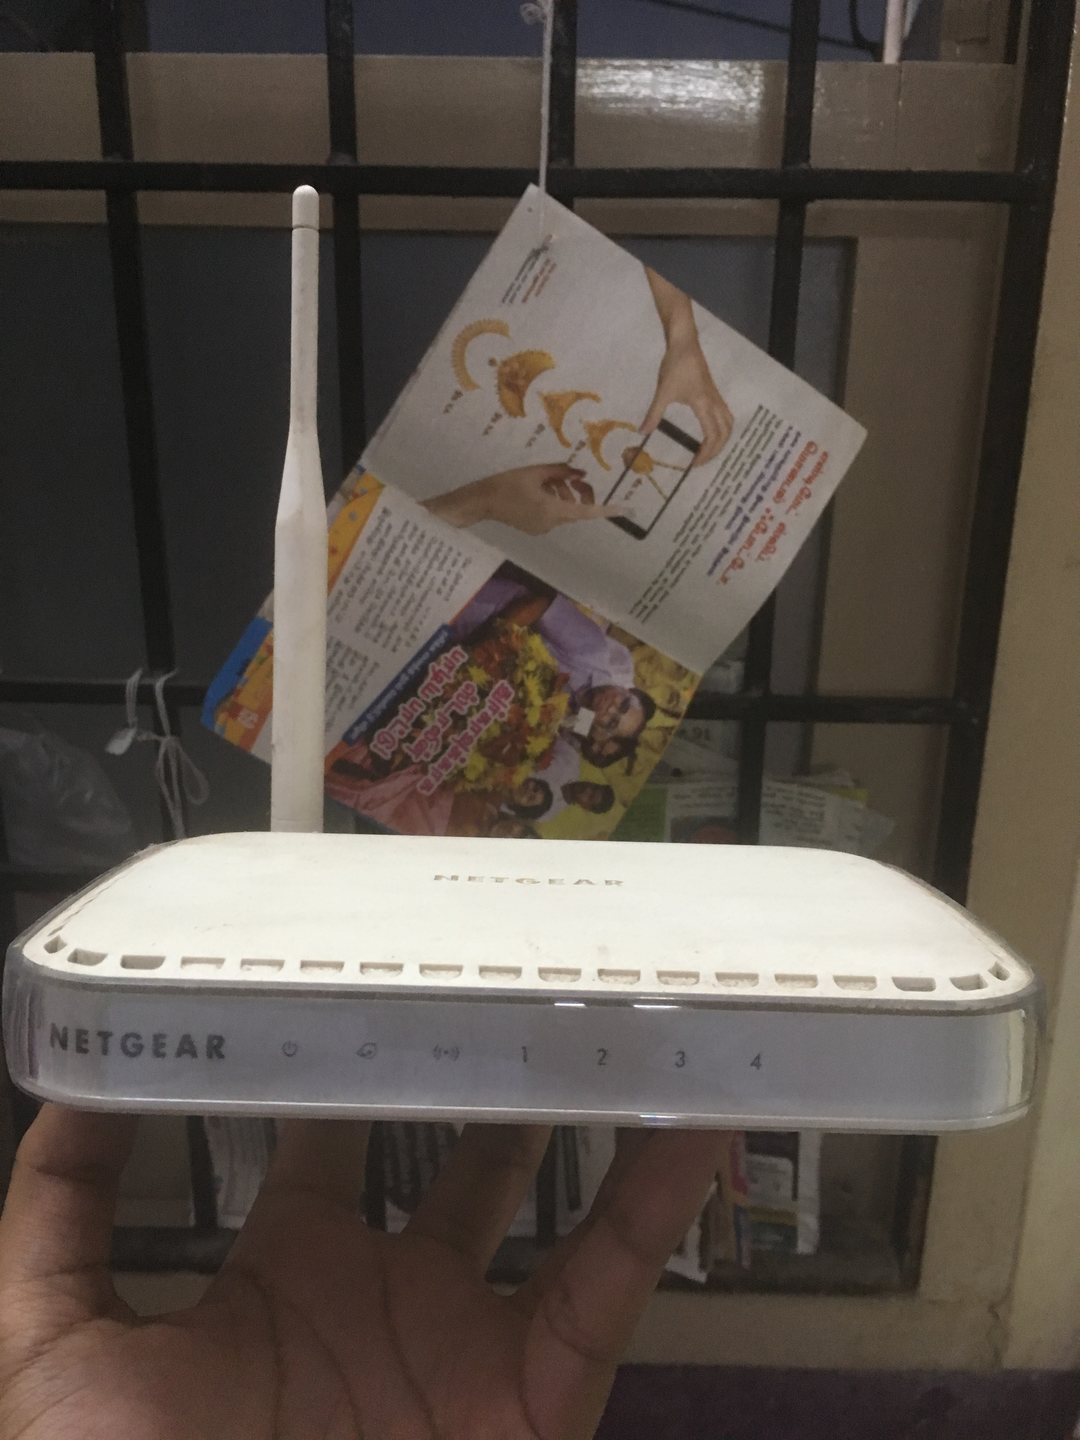NETGEAR: (39, 1014, 233, 1073)
modem: (5, 939, 1051, 1130)
